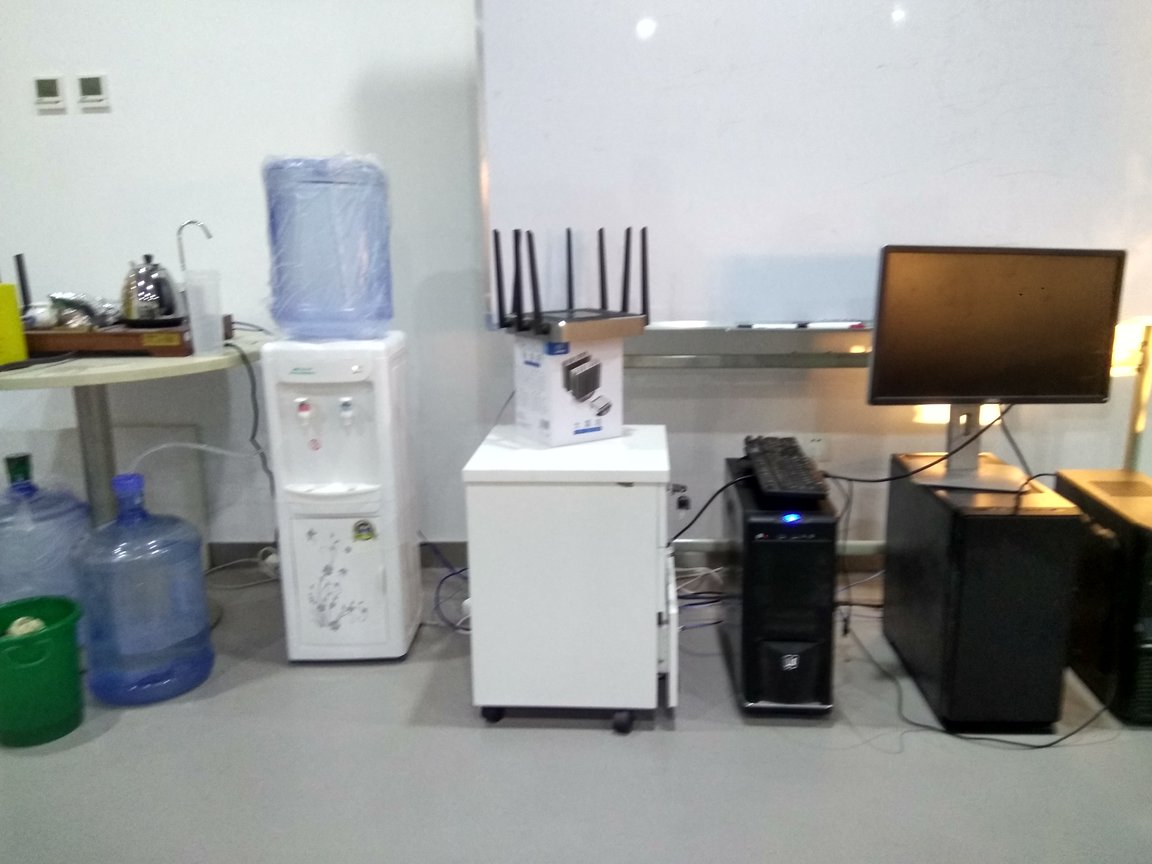computer: (877, 441, 1074, 753), (720, 452, 852, 732), (1052, 464, 1152, 730)
drawer chest: (460, 411, 681, 736)
monitor: (869, 227, 1129, 518)
scuttlebutt: (77, 464, 216, 713), (250, 140, 406, 348), (1, 452, 92, 704)
water dispenser: (258, 325, 425, 677)
